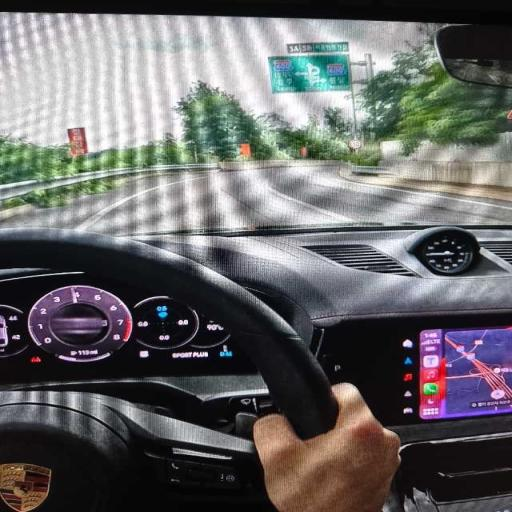car: (0, 13, 511, 511), (0, 316, 8, 346)
lane: (0, 166, 511, 234), (275, 168, 511, 224)
person: (254, 384, 399, 511)
